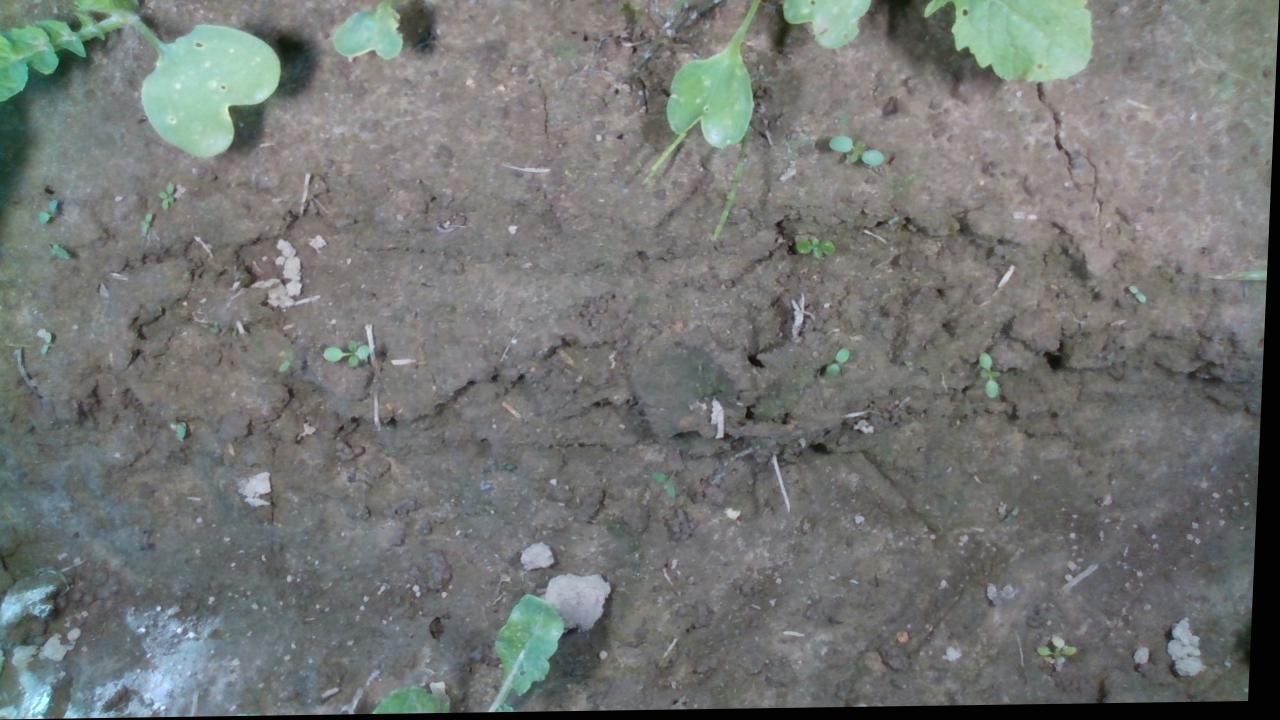weed: (828, 134, 887, 173), (322, 337, 375, 369), (978, 351, 1005, 402), (824, 346, 855, 386), (795, 234, 839, 261), (653, 472, 682, 503), (1127, 282, 1154, 309), (157, 178, 179, 211), (37, 197, 61, 226), (138, 208, 154, 237), (41, 328, 56, 354)
